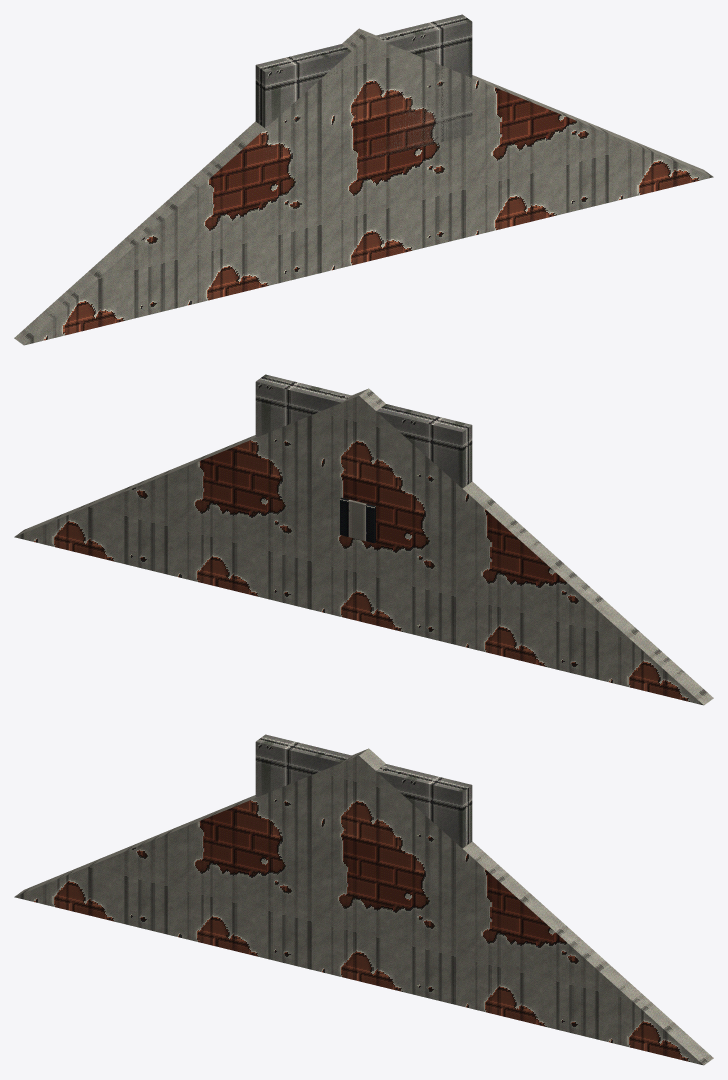
Rendered from gable_plaster_12.glb.
The picture shows the model from 3 angles, top to bottom: view 1: azimuth 30°, elevation 25°; view 2: azimuth 150°, elevation 25°; view 3: azimuth 330°, elevation 25°; orthographic projection.
Visible parts, largest first — view 1: gable_plaster_12_mesh, gable_plaster_12_col-colonly.001; view 2: gable_plaster_12_mesh, gable_plaster_12_col-colonly.001; view 3: gable_plaster_12_mesh, gable_plaster_12_col-colonly.001.
Part boxes in pixels (box(x1,y1,x2,y2)): gable_plaster_12_mesh: box(14, 28, 713, 345); gable_plaster_12_col-colonly.001: box(255, 14, 472, 165); gable_plaster_12_mesh: box(14, 388, 713, 705); gable_plaster_12_col-colonly.001: box(255, 374, 472, 492); gable_plaster_12_mesh: box(14, 748, 713, 1065); gable_plaster_12_col-colonly.001: box(255, 734, 472, 848).
Size of what is drawn, in the model's own units: 12 by 3.75 by 0.355.
3 materials, 3 textured.
